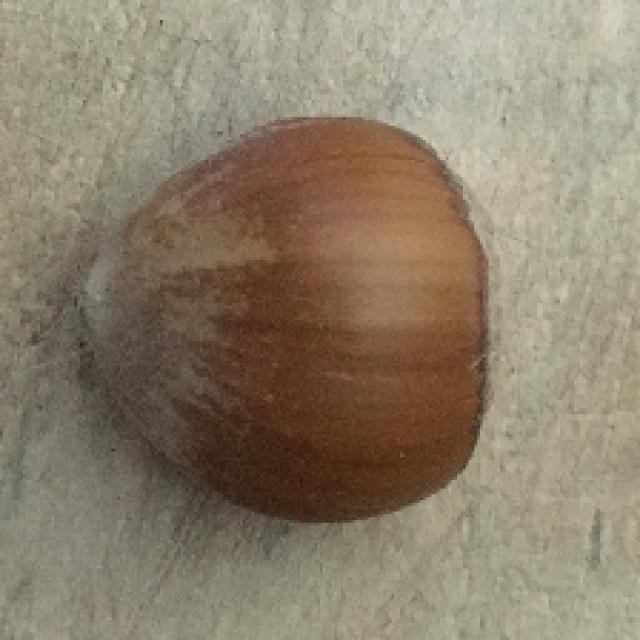qualityHazelnut: (88, 115, 496, 526)
